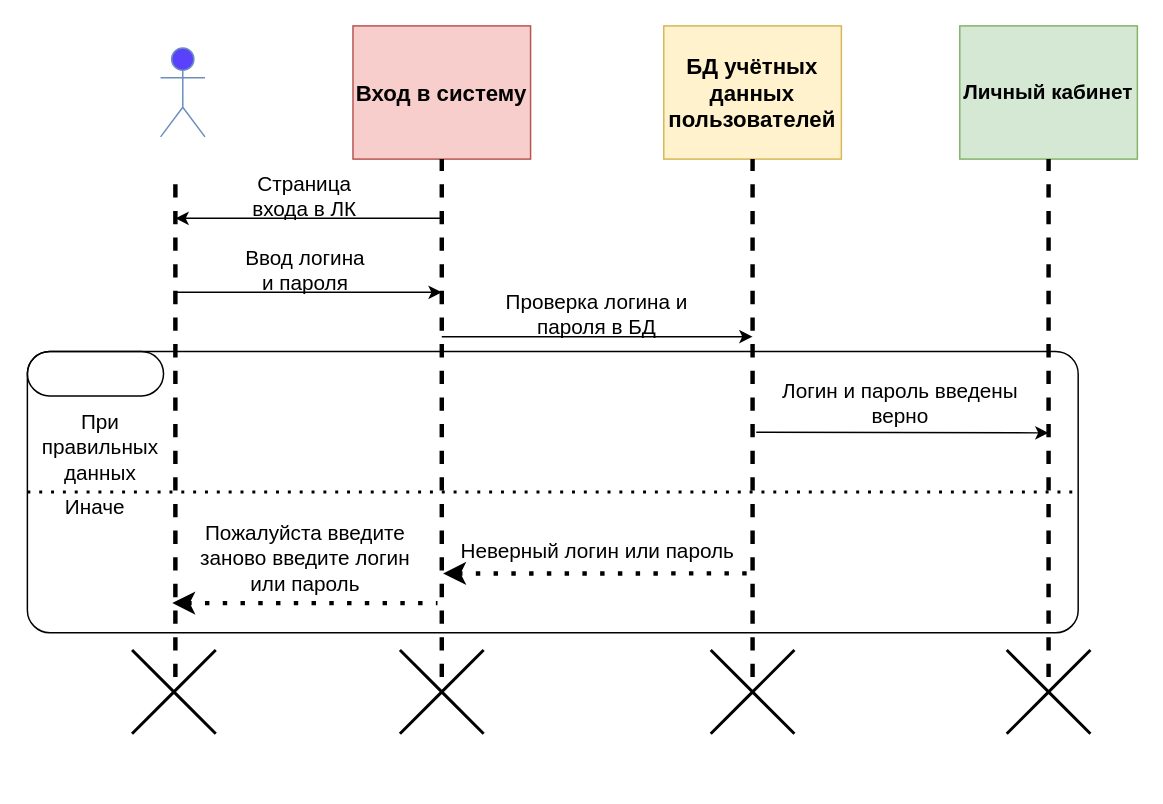
This 1163x804 diagram has some shape labels left out. The centre of each missing label's shape, as x and y in pixels:
Альтернатива: (x=95, y=373)
Пользователь: (x=182, y=92)
